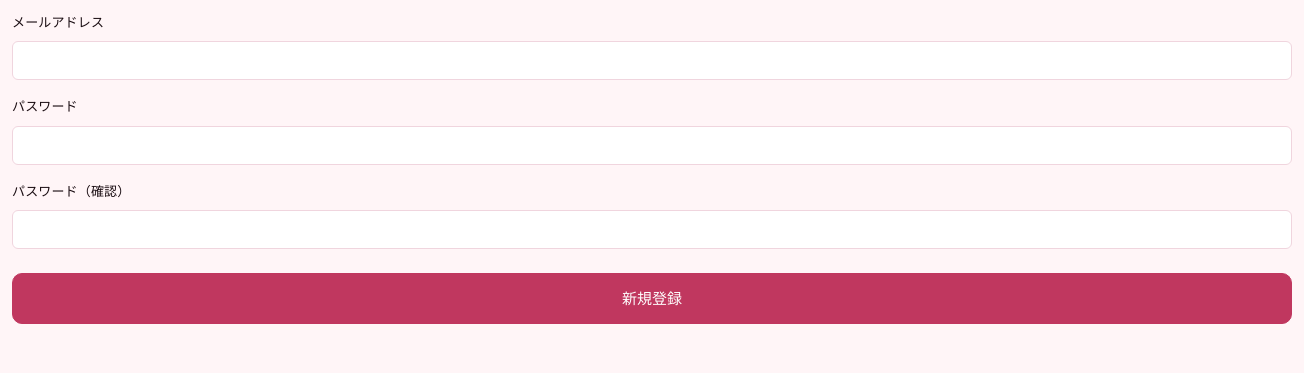
Test: RegisterForm › 無効なメール形式ではAPIを呼ばない
In the field labelled "メールアドレス": (652,61) top-left (12, 41), bottom-right (1292, 80), type "not-an-email"
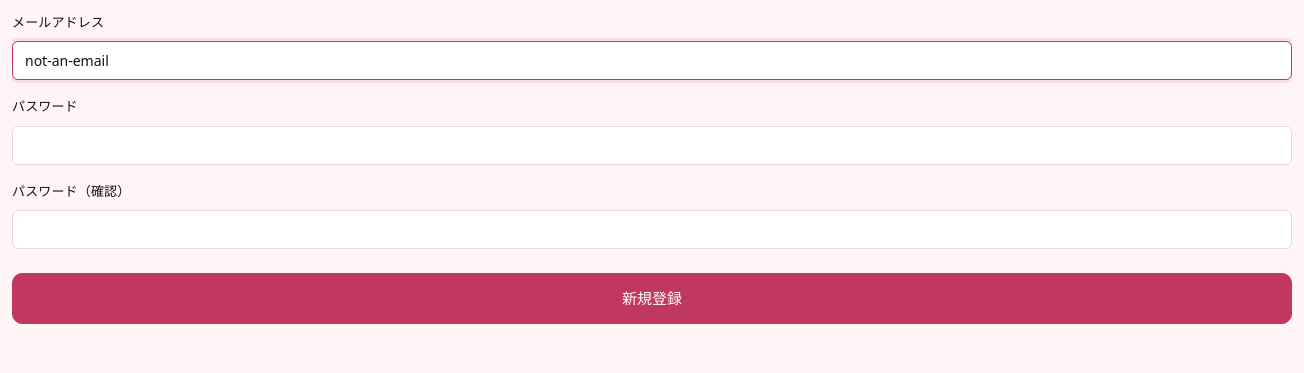
In the password field labelled "パスワード": (652,145) top-left (12, 126), bottom-right (1292, 165), type "password123"
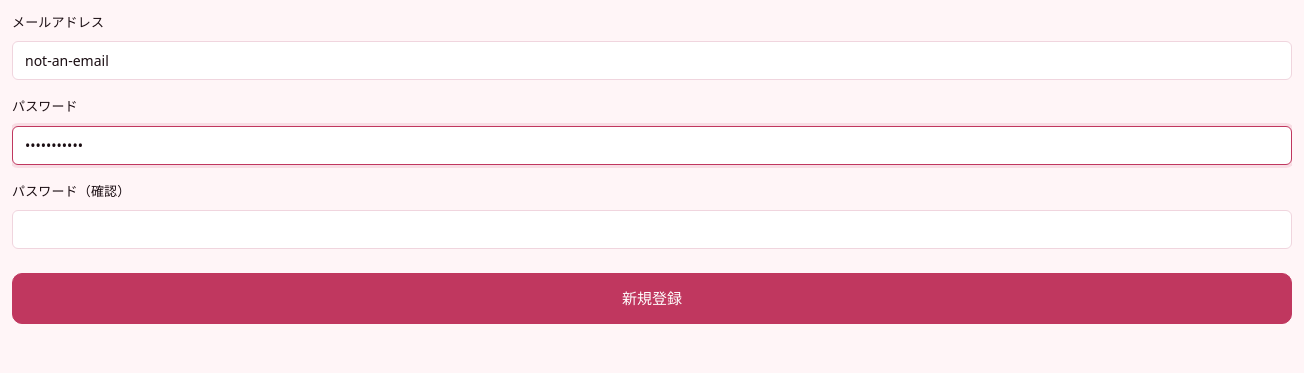
In the password field labelled "パスワード（確認）": (652,230) top-left (12, 210), bottom-right (1292, 249), type "password123"
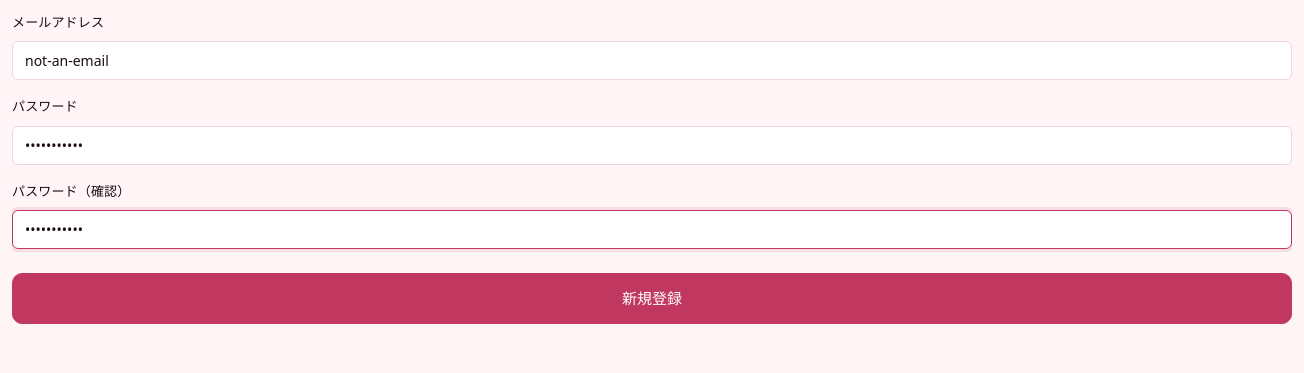
Click the button "新規登録": (652,299) top-left (12, 273), bottom-right (1292, 324)
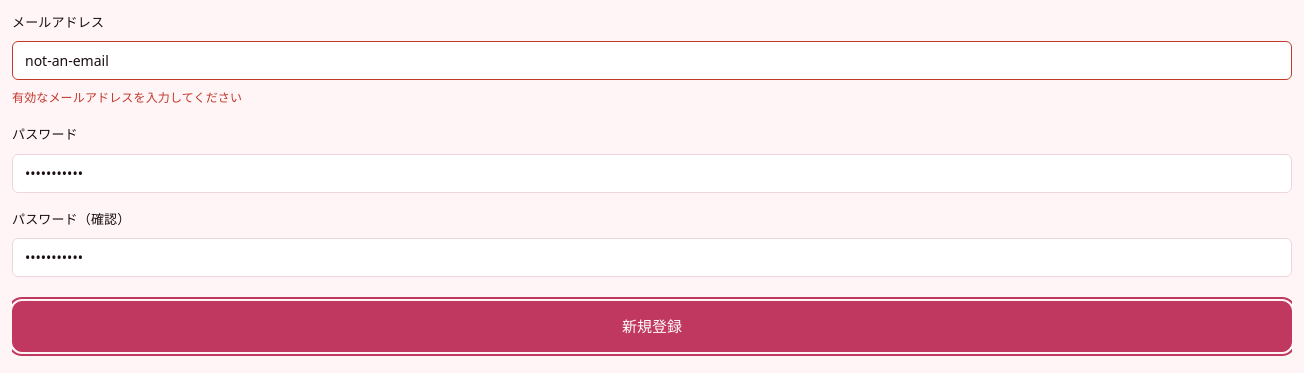
Result: the text "有効なメールアドレスを入力してください" is shown at top-left (12, 89), bottom-right (242, 106)
